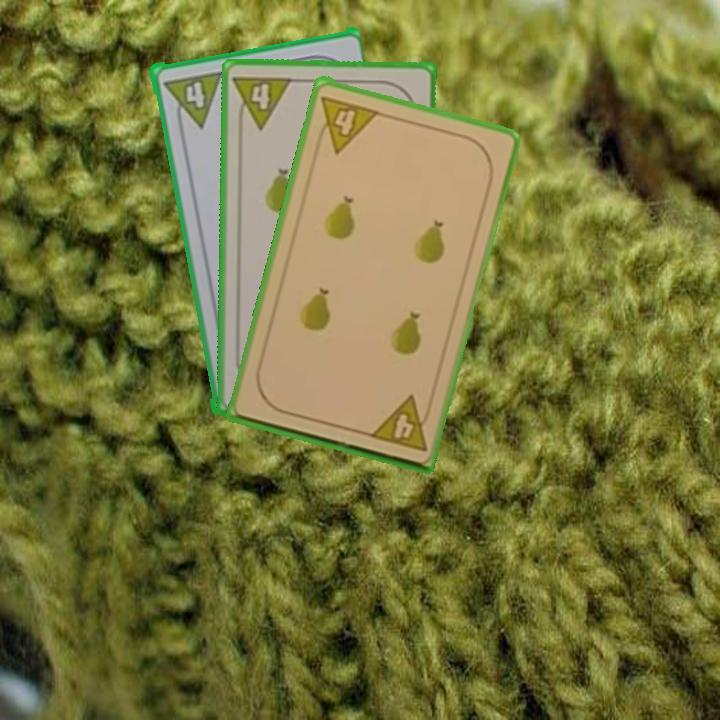4p: (311, 91, 382, 155), (365, 392, 435, 454), (159, 67, 224, 133), (230, 72, 295, 132)
